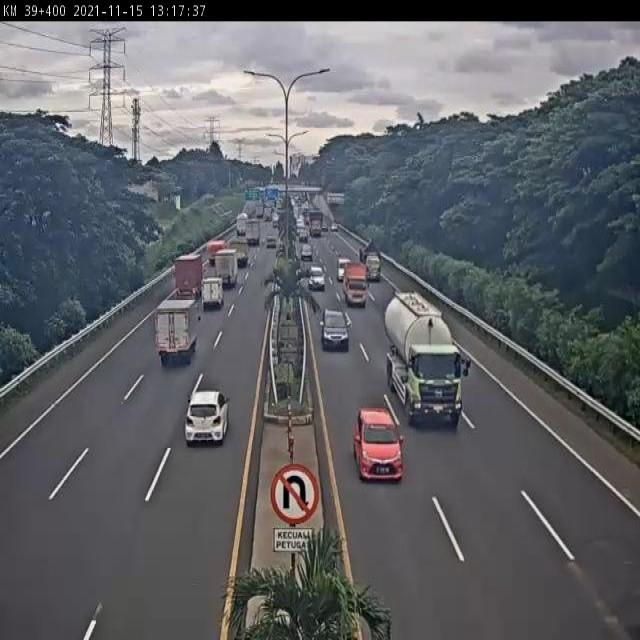Car: (353, 405, 406, 481), (182, 385, 229, 452), (319, 305, 350, 351), (307, 264, 327, 290), (299, 242, 313, 262), (265, 234, 277, 254)
Truck: (389, 287, 471, 427), (152, 298, 202, 362), (170, 244, 204, 304), (213, 248, 240, 289), (343, 265, 369, 306), (358, 237, 382, 280), (198, 276, 225, 310), (204, 235, 231, 261), (242, 215, 264, 246), (307, 208, 327, 239), (232, 238, 250, 269)
Van: (333, 254, 354, 282)
